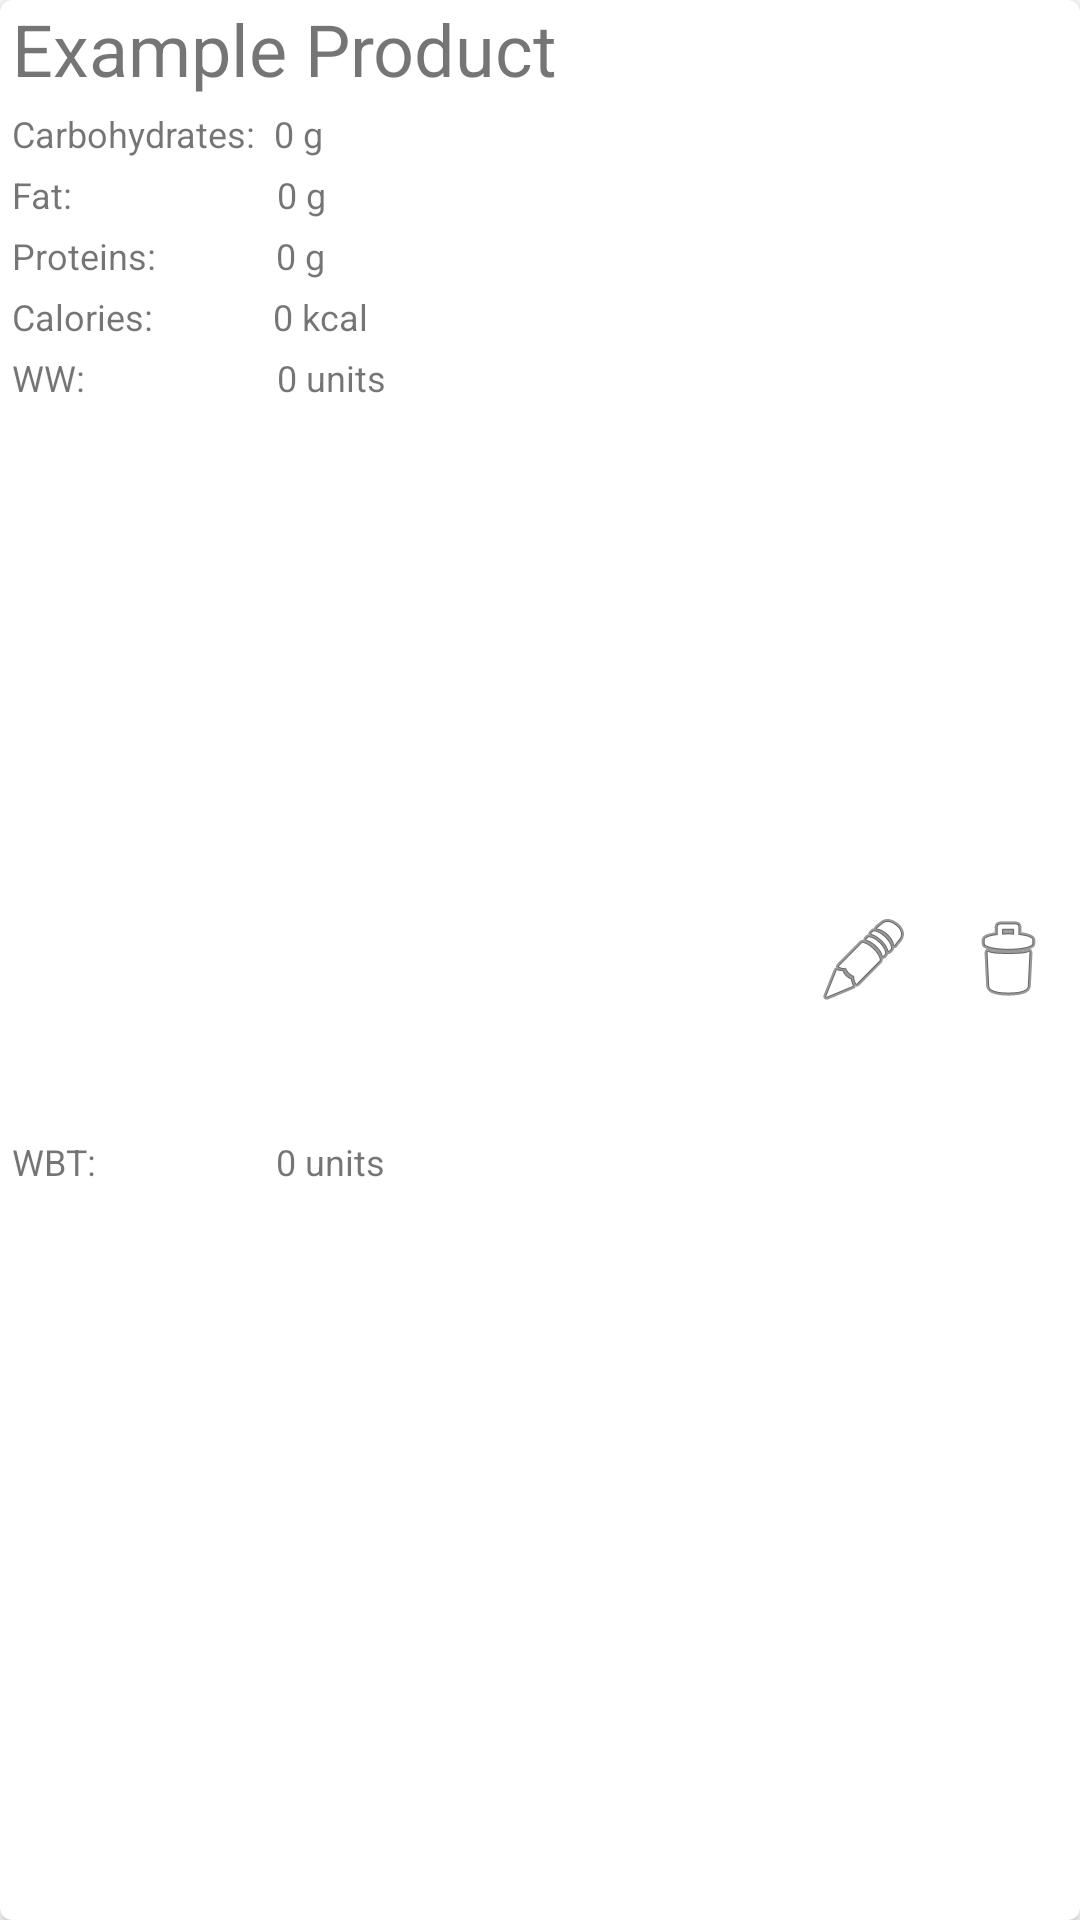

Icon bounding boxes for this 1080px×1920px phone screenshot, format (x1, y1, x2, y2):
delete: (981, 921, 1036, 996)
edit: (823, 919, 904, 1000)
